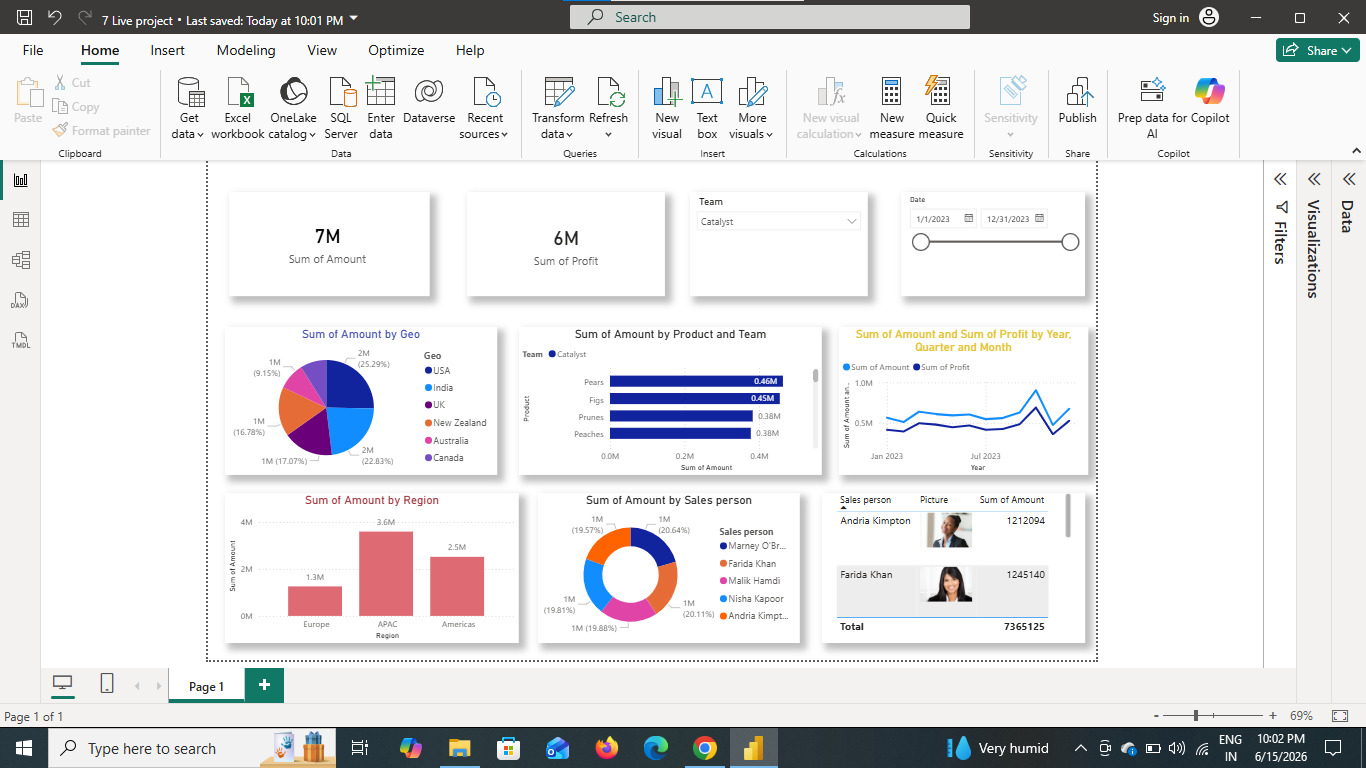

Layout of this report page (visuals, bound fields, positions):
{"tool":"powerbi","page":{"name":"Page 1","canvas":[1280,720],"ordinal":0},"visuals":[{"type":"clusteredColumnChart","fields":{"Category":["Locations.Region"],"Y":["Sum(sales.Amount)"]},"box":[24.5,479.5,423.4,216],"z":0},{"type":"tableEx","fields":{"Values":["EmployeeData.Sales person","EmployeeData.Picture","Sum(sales.Amount)"]},"box":[884.2,479.5,378.7,216],"z":1000},{"type":"barChart","fields":{"Category":["sales.Product"],"Series":["EmployeeData.Team"],"Y":["Sum(sales.Amount)"]},"box":[447.8,240.5,436.3,213.1],"z":2000},{"type":"pieChart","fields":{"Y":["Sum(sales.Amount)"],"Category":["Locations.Geo"]},"box":[24.5,240.5,391.7,213.1],"z":3000},{"type":"donutChart","fields":{"Category":["EmployeeData.Sales person"],"Y":["Sum(sales.Amount)"]},"box":[475.2,479.5,377.3,216],"z":4000},{"type":"lineChart","fields":{"Category":["sales.Date.Variation.Date Hierarchy.Year","sales.Date.Variation.Date Hierarchy.Quarter","sales.Date.Variation.Date Hierarchy.Month","sales.Date.Variation.Date Hierarchy.Day"],"Y":["Sum(sales.Amount)","Sum(sales.Profit)"]},"box":[908.6,240.5,358.6,213.1],"z":5000},{"type":"card","fields":{"Values":["Sum(sales.Amount)"]},"box":[30.2,46.1,289.4,149.8],"z":6000},{"type":"card","fields":{"Values":["Sum(sales.Profit)"]},"box":[373,46.1,285.1,149.8],"z":7000},{"type":"slicer","fields":{"Values":["sales.Date"]},"box":[997.9,46.1,265,149.8],"z":8000},{"type":"slicer","fields":{"Values":["EmployeeData.Team"]},"box":[694.1,46.1,256.3,149.8],"z":9000}]}

Visuals, with their boxes on the page's 1280x720 design canvas (x1, y1, x2, y2). These are canvas units, not pixel positions in the 1366x768 screenshot, which may show the page scaled, cropped or inside an application window:
clusteredColumnChart - Locations.Region x Sum(sales.Amount): bbox(24, 480, 448, 696)
tableEx - EmployeeData.Sales person x EmployeeData.Picture: bbox(884, 480, 1263, 696)
barChart - sales.Product x EmployeeData.Team: bbox(448, 240, 884, 454)
pieChart - Sum(sales.Amount) x Locations.Geo: bbox(24, 240, 416, 454)
donutChart - EmployeeData.Sales person x Sum(sales.Amount): bbox(475, 480, 852, 696)
lineChart - sales.Date.Variation.Date Hierarchy.Year x sales.Date.Variation.Date Hierarchy.Quarter: bbox(909, 240, 1267, 454)
card - Sum(sales.Amount): bbox(30, 46, 320, 196)
card - Sum(sales.Profit): bbox(373, 46, 658, 196)
slicer - sales.Date: bbox(998, 46, 1263, 196)
slicer - EmployeeData.Team: bbox(694, 46, 950, 196)
